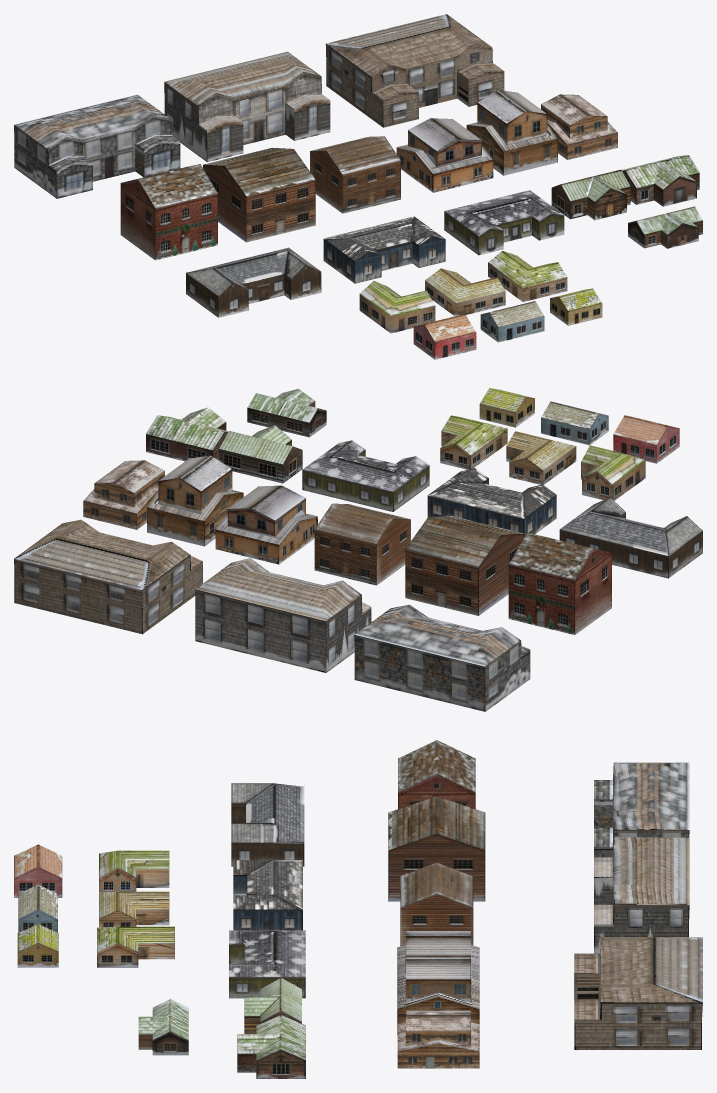
The model's file is Houses.FBX.
The picture shows the model from 3 angles, top to bottom: view 1: azimuth 30°, elevation 25°; view 2: azimuth 150°, elevation 25°; view 3: azimuth 270°, elevation 25°; orthographic projection. The views are drawn at different scales.
Visible parts, largest first — view 1: House (×15), H018, H015, H7, H6, H014, H019; view 2: House (×15), H018, H015, H7, H6, H019, H014; view 3: House (×15), H018, H015, H7, H6, H014, H019.
Boxes of the visible parts, x1=… form: House (×15): x1=120, y1=90, x2=702, y2=359; H018: x1=325, y1=14, x2=504, y2=127; H015: x1=164, y1=51, x2=330, y2=161; H7: x1=14, y1=94, x2=180, y2=198; H6: x1=186, y1=247, x2=321, y2=317; H014: x1=323, y1=216, x2=445, y2=283; H019: x1=444, y1=190, x2=564, y2=255; House (×15): x1=83, y1=388, x2=679, y2=634; H018: x1=14, y1=519, x2=202, y2=634; H015: x1=195, y1=558, x2=371, y2=672; H7: x1=354, y1=604, x2=530, y2=711; H6: x1=559, y1=497, x2=702, y2=578; H019: x1=302, y1=440, x2=429, y2=511; H014: x1=427, y1=468, x2=556, y2=536; House (×15): x1=14, y1=740, x2=485, y2=1078; H018: x1=574, y1=937, x2=702, y2=1049; H015: x1=594, y1=837, x2=689, y2=953; H7: x1=594, y1=762, x2=689, y2=857; H6: x1=231, y1=783, x2=304, y2=866; H014: x1=233, y1=860, x2=302, y2=930; H019: x1=229, y1=930, x2=305, y2=998.
Bounding box in the file's own units: 396 × 52.74 × 429.
21 materials, 21 textured.
